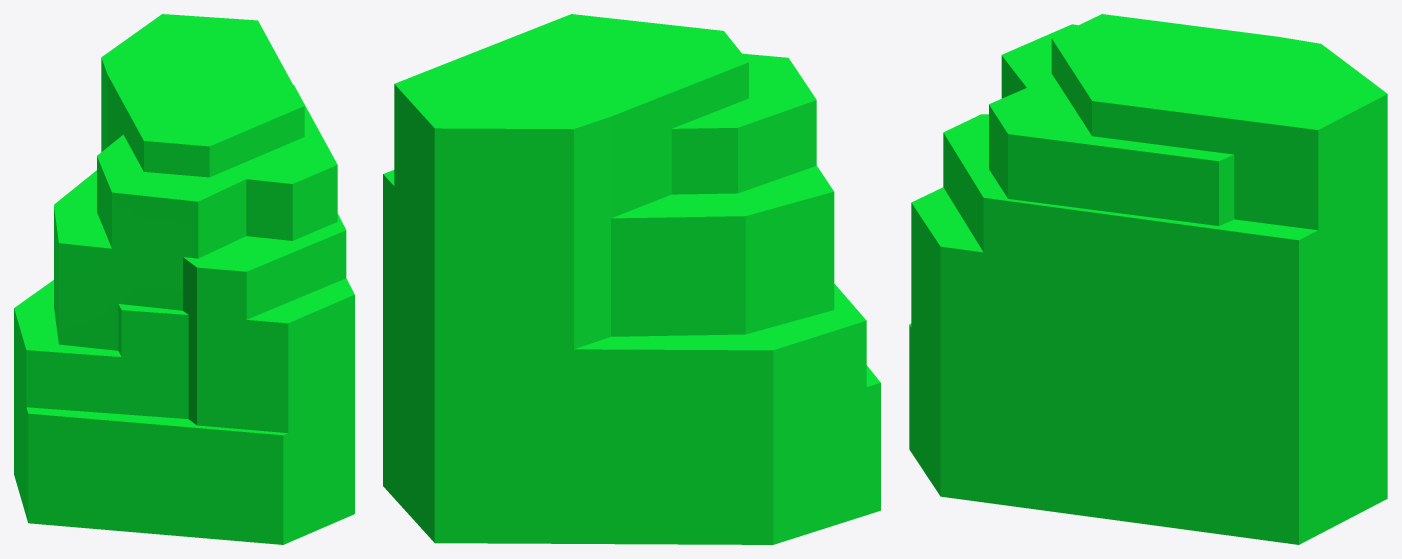
The model's file is DEHB01AL3xv0003S.dae.
3 views of the same model, side by side, from view 1: azimuth 30°, elevation 25°; view 2: azimuth 150°, elevation 25°; view 3: azimuth 270°, elevation 25° (orthographic). The views are drawn at different scales.
Bounding box in the file's own units: 21.27 × 22.68 × 21.17.
